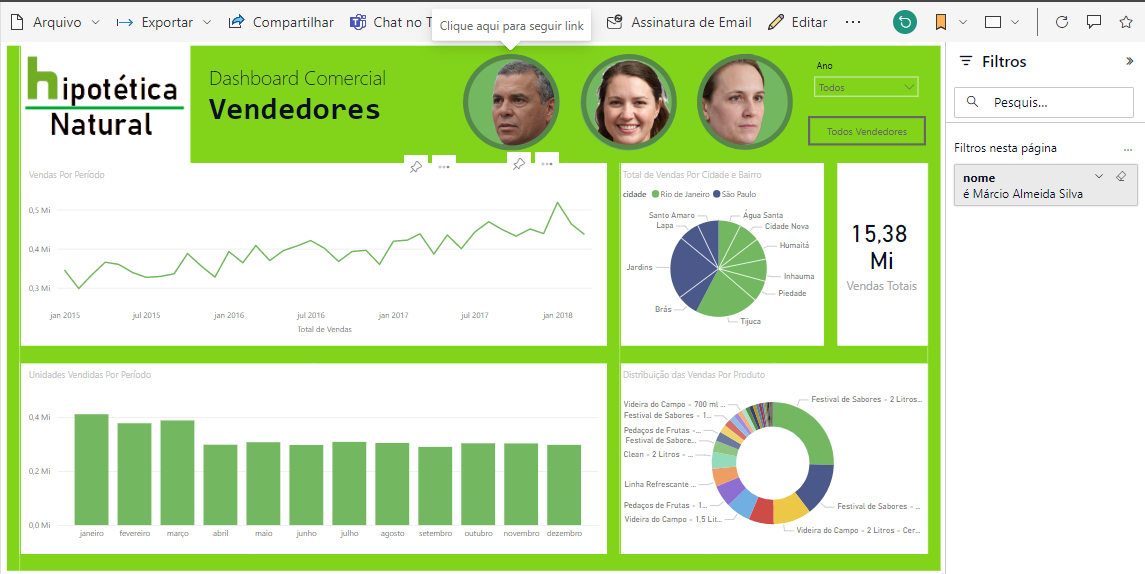

Layout of this report page (visuals, bound fields, positions):
{"tool":"powerbi","page":{"name":"Página 3","canvas":[1280,720],"ordinal":0},"visuals":[{"type":"image","box":[0,0,1281,722.2],"z":0},{"type":"textbox","box":[276.5,24.5,341.3,126.7],"z":1000},{"type":"shape","box":[627.8,16.3,130,130],"z":2000},{"type":"image","box":[628,16,152.5,139.2],"z":3000},{"type":"shape","box":[626.9,16.4,131.3,131.3],"z":4000},{"type":"shape","box":[785.6,17.1,130.6,129.9],"z":5000},{"type":"image","box":[787.8,17.1,138.8,134.3],"z":6000},{"type":"shape","box":[786.3,16.4,129.9,129.9],"z":7000},{"type":"shape","box":[943.8,15.7,130,130],"z":8000},{"type":"image","box":[893.1,8.6,202.1,145],"z":9000},{"type":"shape","box":[943.8,15.7,130,130],"z":10000},{"type":"slicer","title":"Segmentação de Dados","fields":{"Values":["Consulta1.DATA_VENDA.Variation.Hierarquia de datas.Ano"]},"box":[1093,18.7,161.3,82.1],"z":11000},{"type":"lineChart","title":"Vendas Por Período","fields":{"Category":["Consulta1.DATA_VENDA.Variation.Hierarquia de datas.Ano","Consulta1.DATA_VENDA.Variation.Hierarquia de datas.Mês"],"Y":["Sum(Consulta1.valor)"]},"box":[33.1,171.4,783.4,230.4],"z":11001},{"type":"clusteredColumnChart","title":"Unidades Vendidas Por Período","fields":{"Y":["Sum(Consulta1.quantidade)"],"Category":["Consulta1.DATA_VENDA.Variation.Hierarquia de datas.Ano","Consulta1.DATA_VENDA.Variation.Hierarquia de datas.Mês"]},"box":[33.1,442.1,783.4,241.9],"z":11002},{"type":"card","fields":{"Values":["Sum(Consulta1.valor)"]},"box":[1133.9,171.3,120.9,230.1],"z":11003},{"type":"donutChart","title":"Distribuição das Vendas Por Produto","fields":{"Category":["Consulta1.NOME_DO_PRODUTO"],"Y":["Sum(Consulta1.valor)"]},"box":[838.2,441.8,416.6,241.9],"z":11004},{"type":"pieChart","title":"Total de Vendas Por Cidade e Bairro","fields":{"Category":["Consulta1.cidade"],"Y":["Sum(Consulta1.valor)"],"Series":["Consulta1.bairro"]},"box":[838.2,171.3,270.4,230.1],"z":11005},{"type":"actionButton","box":[1094.4,100.8,159.8,40.3],"z":11006}]}

Visuals, with their boxes on the page's 1280x720 design canvas (x1, y1, x2, y2). These are canvas units, not pixel positions in the 1145x574 screenshot, which may show the page scaled, cropped or inside an application window:
image: box=[0, 0, 1281, 722]
textbox: box=[276, 24, 618, 151]
shape: box=[628, 16, 758, 146]
image: box=[628, 16, 780, 155]
shape: box=[627, 16, 758, 148]
shape: box=[786, 17, 916, 147]
image: box=[788, 17, 927, 151]
shape: box=[786, 16, 916, 146]
shape: box=[944, 16, 1074, 146]
image: box=[893, 9, 1095, 154]
shape: box=[944, 16, 1074, 146]
"Segmentação de Dados" slicer: box=[1093, 19, 1254, 101]
"Vendas Por Período" lineChart: box=[33, 171, 816, 402]
"Unidades Vendidas Por Período" clusteredColumnChart: box=[33, 442, 816, 684]
card - Sum(Consulta1.valor): box=[1134, 171, 1255, 401]
"Distribuição das Vendas Por Produto" donutChart: box=[838, 442, 1255, 684]
"Total de Vendas Por Cidade e Bairro" pieChart: box=[838, 171, 1109, 401]
actionButton: box=[1094, 101, 1254, 141]
